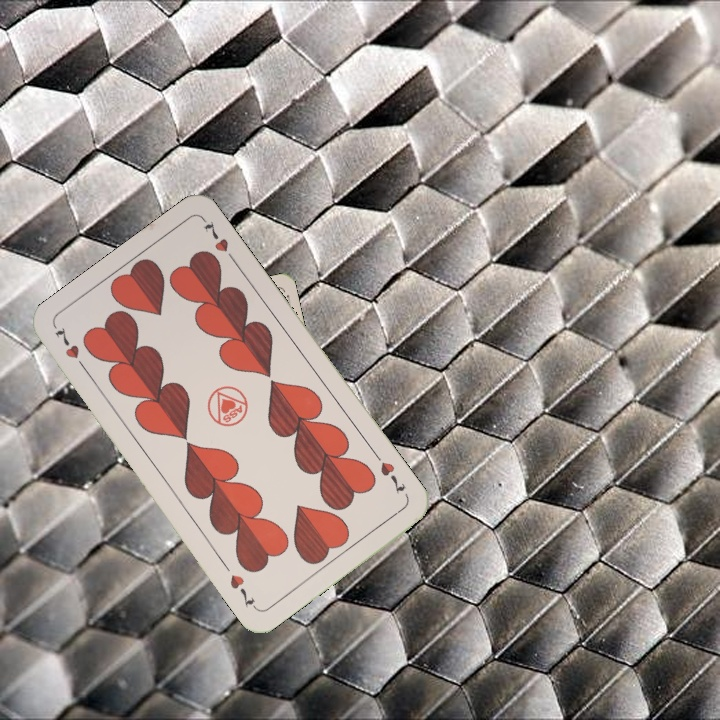H7: (50, 323, 90, 375), (370, 448, 409, 497)
